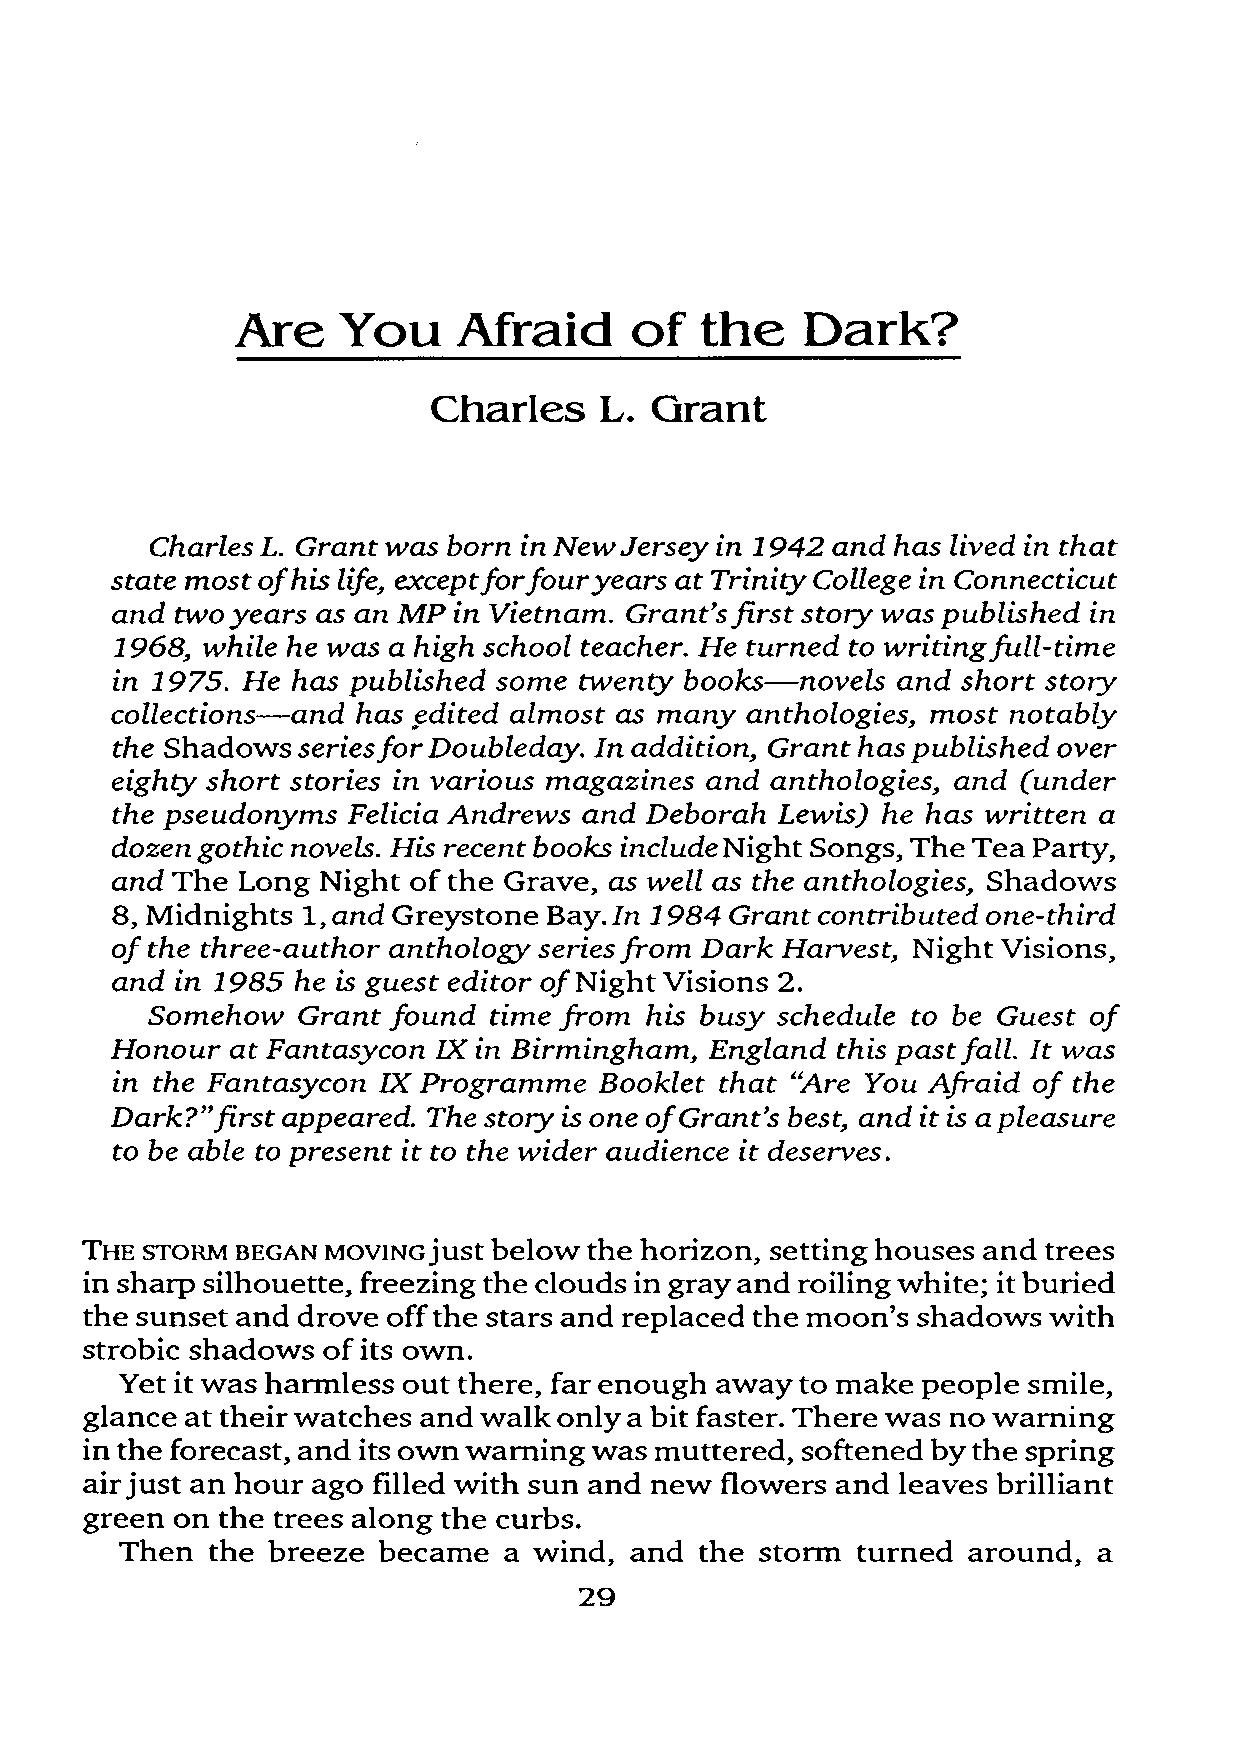chapter: (232, 303, 968, 429)
content: (79, 531, 1119, 1567)
content_pagenumber: (572, 1584, 620, 1609)
